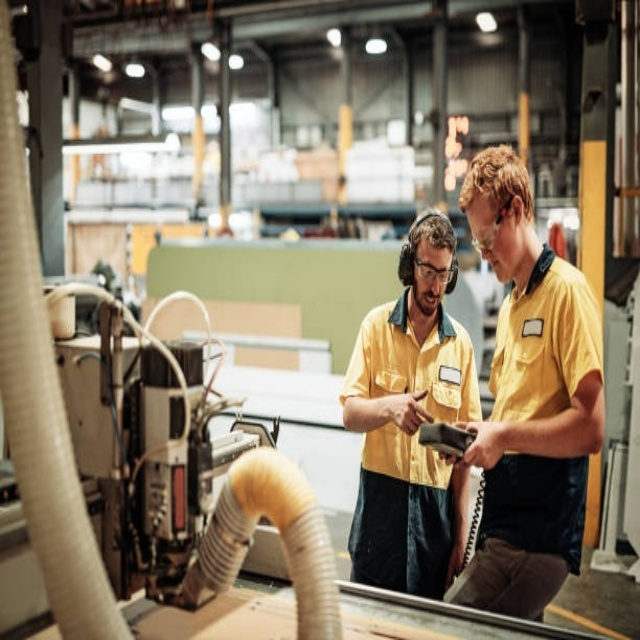Gafas: (469, 205, 509, 253), (413, 253, 454, 284)
Sin_guantes: (453, 420, 505, 473), (390, 388, 435, 432)
Sin_mascara: (483, 253, 506, 279), (417, 289, 440, 309)
